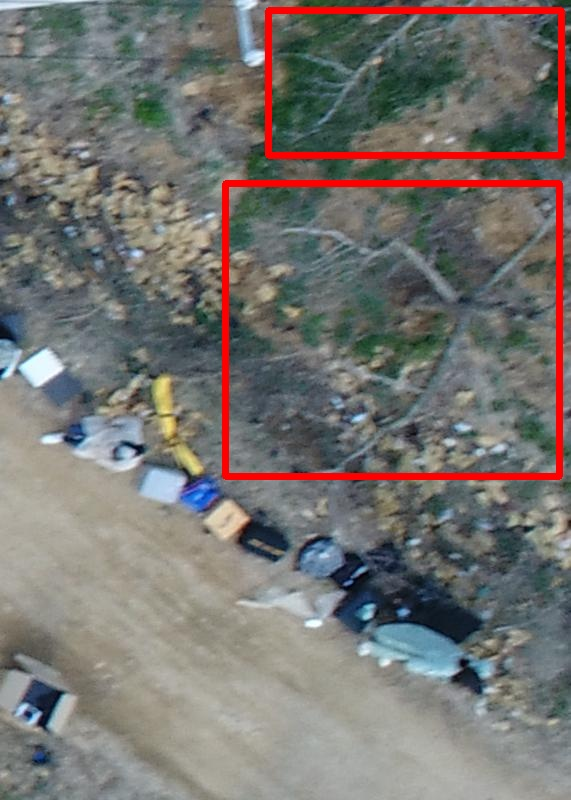apple: (225, 183, 559, 476), (268, 10, 561, 155)
